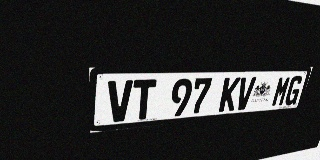7: (189, 78, 212, 115)
9: (169, 78, 193, 117)
G: (283, 76, 304, 106)
K: (218, 77, 241, 112)
M: (271, 76, 292, 107)
T: (132, 79, 157, 120)
V: (107, 80, 133, 123), (234, 77, 257, 110)
